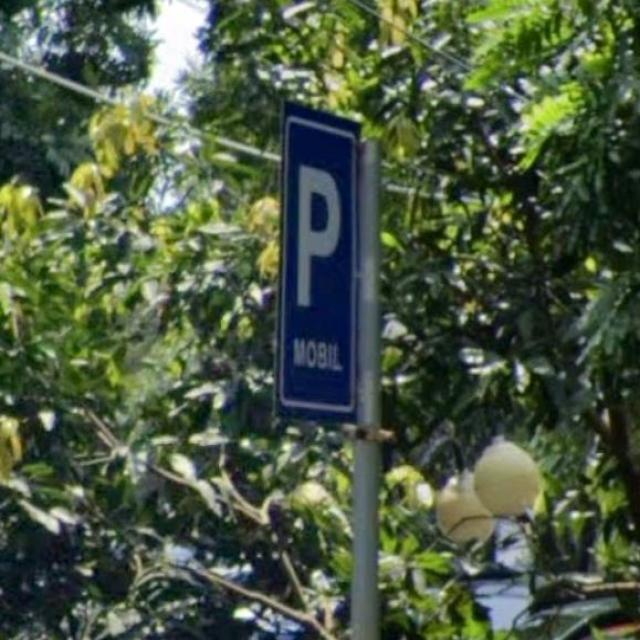traffic sign: (280, 97, 360, 421)
